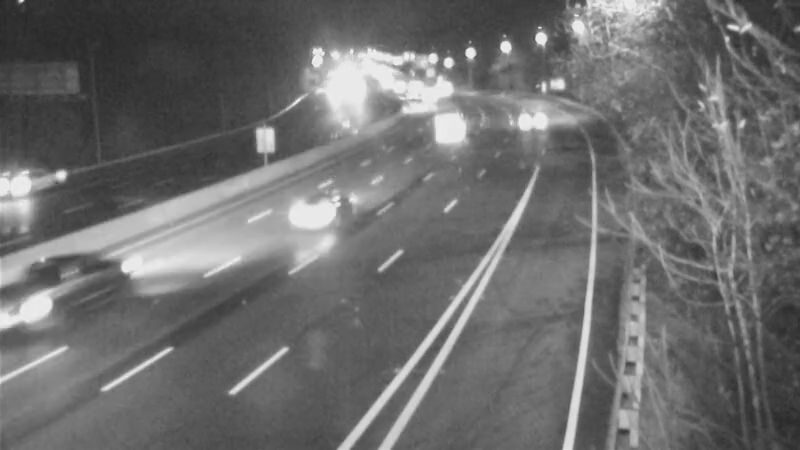vehicle: (270, 172, 350, 252), (30, 248, 110, 328), (1, 146, 75, 226), (406, 67, 456, 117), (393, 80, 443, 130), (420, 103, 470, 153), (503, 91, 553, 141)
